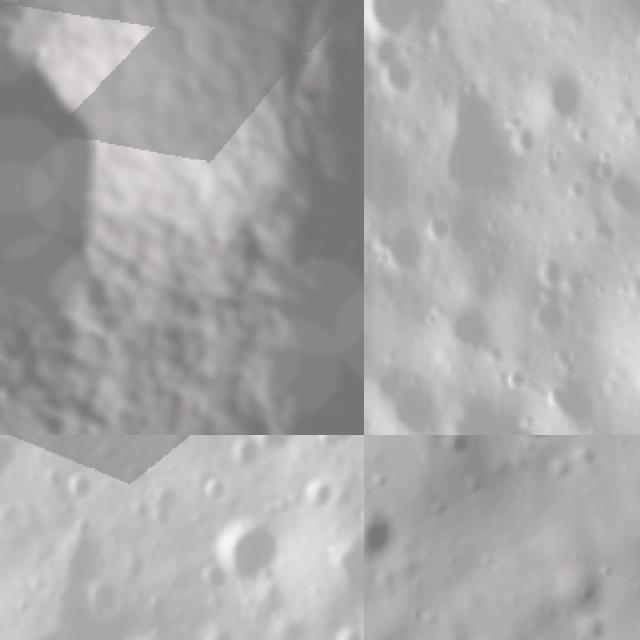crater: (0, 12, 141, 392), (432, 78, 526, 202), (371, 360, 440, 435), (207, 514, 281, 582), (367, 32, 424, 104), (432, 294, 485, 357), (364, 0, 462, 31), (372, 217, 431, 266), (315, 540, 364, 599), (514, 287, 562, 338), (364, 503, 400, 558), (422, 207, 457, 246), (195, 558, 231, 595), (624, 0, 640, 83), (226, 438, 262, 474), (62, 472, 95, 506), (0, 435, 17, 497), (245, 435, 296, 454), (197, 477, 228, 506), (437, 435, 471, 454), (334, 623, 364, 640)
